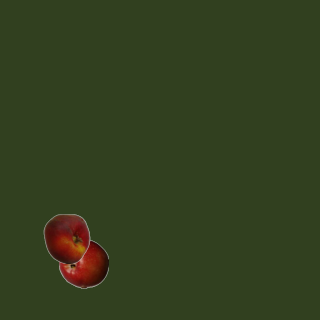Apple Braeburn: (58, 238, 108, 288)
Nectarine Flat: (41, 213, 91, 263)
